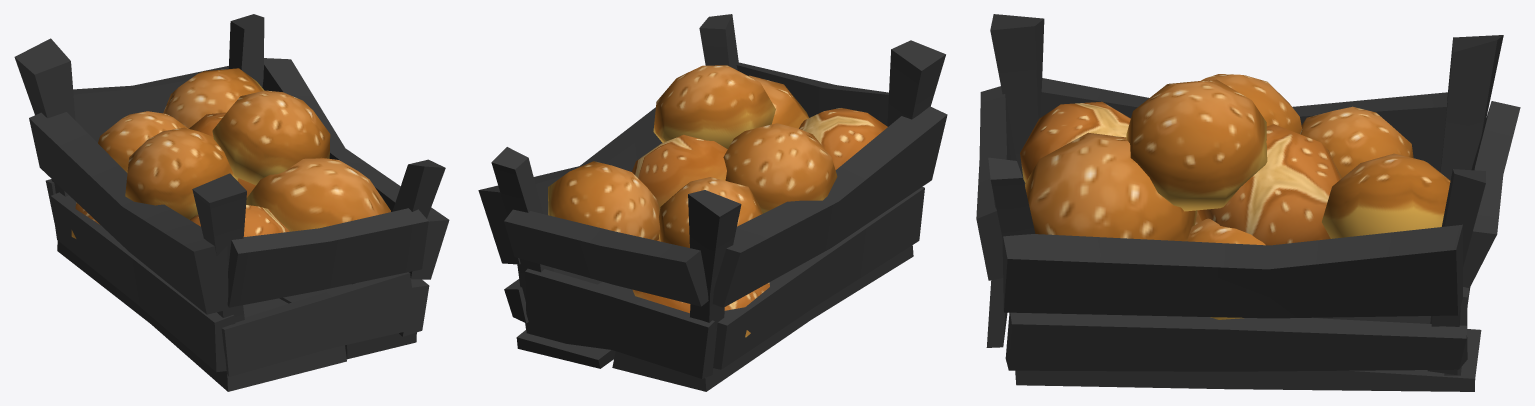
File: SM_PROP_crate_05.FBX
The picture shows the model from 3 angles, left to right: view 1: azimuth 30°, elevation 25°; view 2: azimuth 150°, elevation 25°; view 3: azimuth 270°, elevation 25°; orthographic projection. The views are drawn at different scales.
Parts seen in each view (by area): view 1: SM_PROP_crate_05; view 2: SM_PROP_crate_05; view 3: SM_PROP_crate_05.
Boxes of the visible parts, box(x1,y1,x2,y2) form: SM_PROP_crate_05: box(14, 14, 449, 391); SM_PROP_crate_05: box(478, 14, 947, 391); SM_PROP_crate_05: box(976, 14, 1520, 391).
Size of the model in its own units: 64.5 by 89.13 by 46.66.
